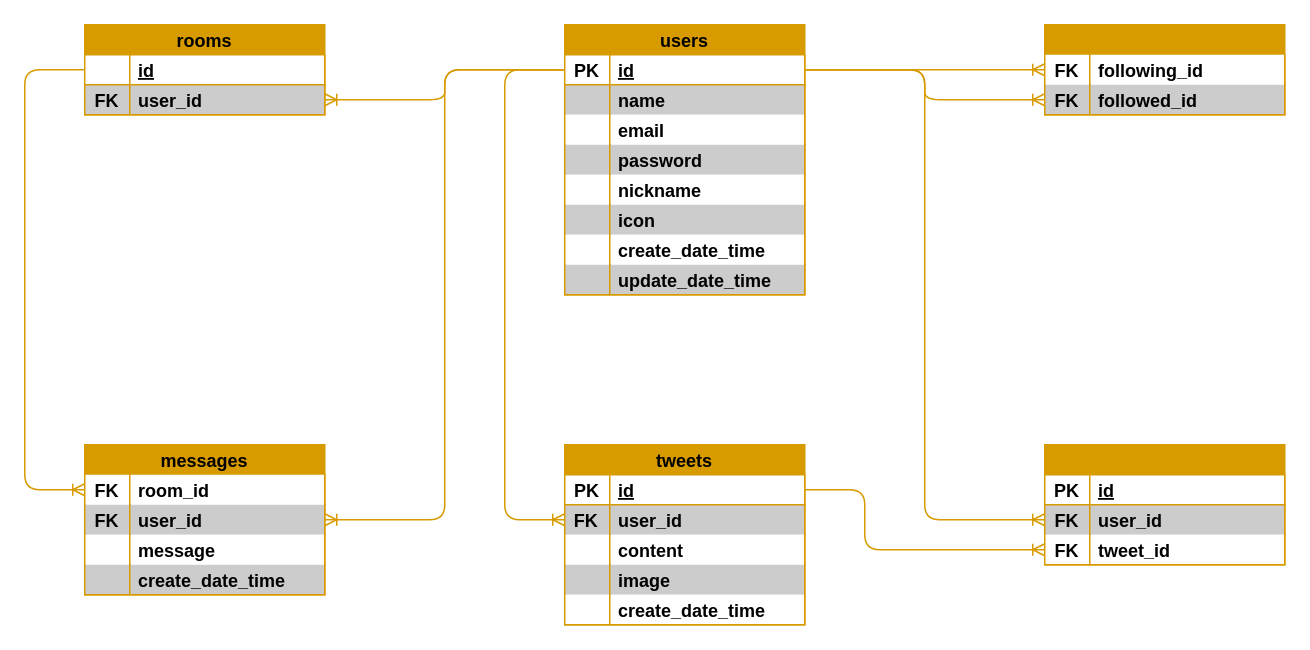
Some shapes in this 1310 by 650 pixel diagram are drawn without their labels. Each missing label, with the box of its shape:
favorites: (1043, 443, 1285, 565)
followers: (1043, 23, 1285, 115)
